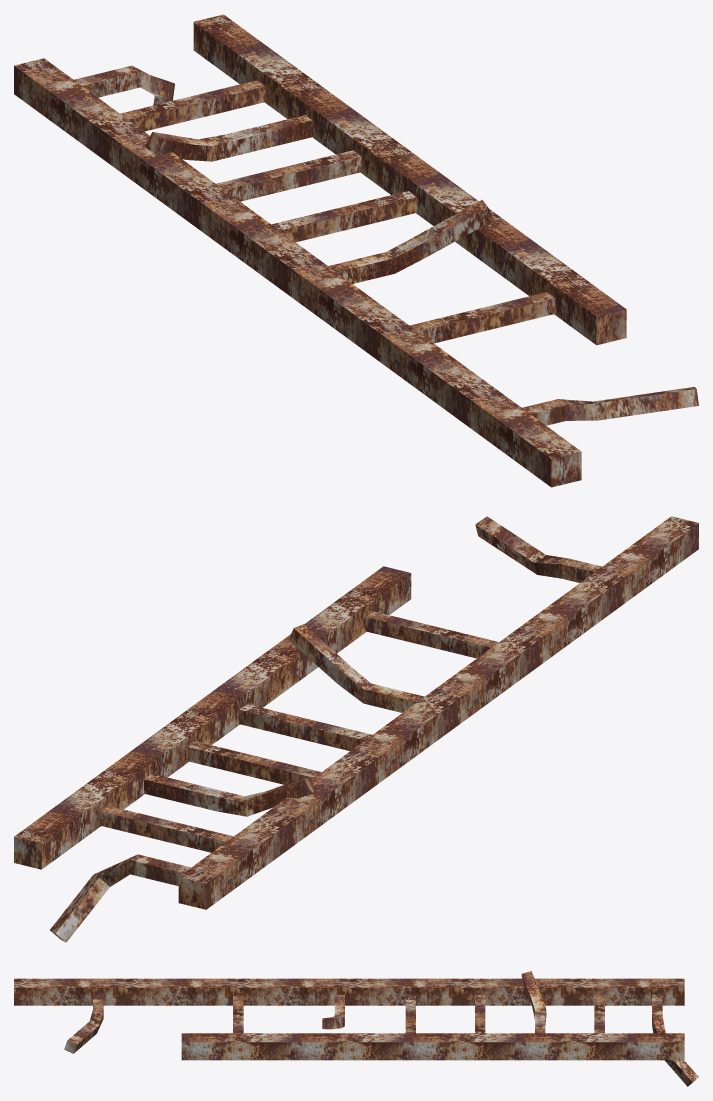
File: Scrap_parts_metal_ladder.glb
3 renders of one model, top to bottom at view 1: azimuth 30°, elevation 25°; view 2: azimuth 150°, elevation 25°; view 3: azimuth 270°, elevation 25°, orthographic. The views are drawn at different scales.
Visible parts, largest first — view 1: Cube.005; view 2: Cube.005; view 3: Cube.005.
Boxes of the visible parts, x1,y1,x2,y2 form: Cube.005: [14, 14, 698, 487]; Cube.005: [14, 516, 698, 942]; Cube.005: [14, 971, 698, 1086].
Bounding box in the file's own units: 1.1 × 0.6208 × 4.97.
1 material, 1 textured.
